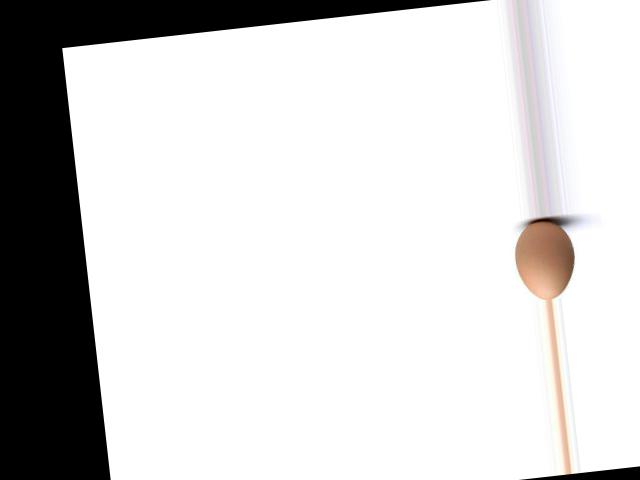egg: (511, 217, 578, 301)
